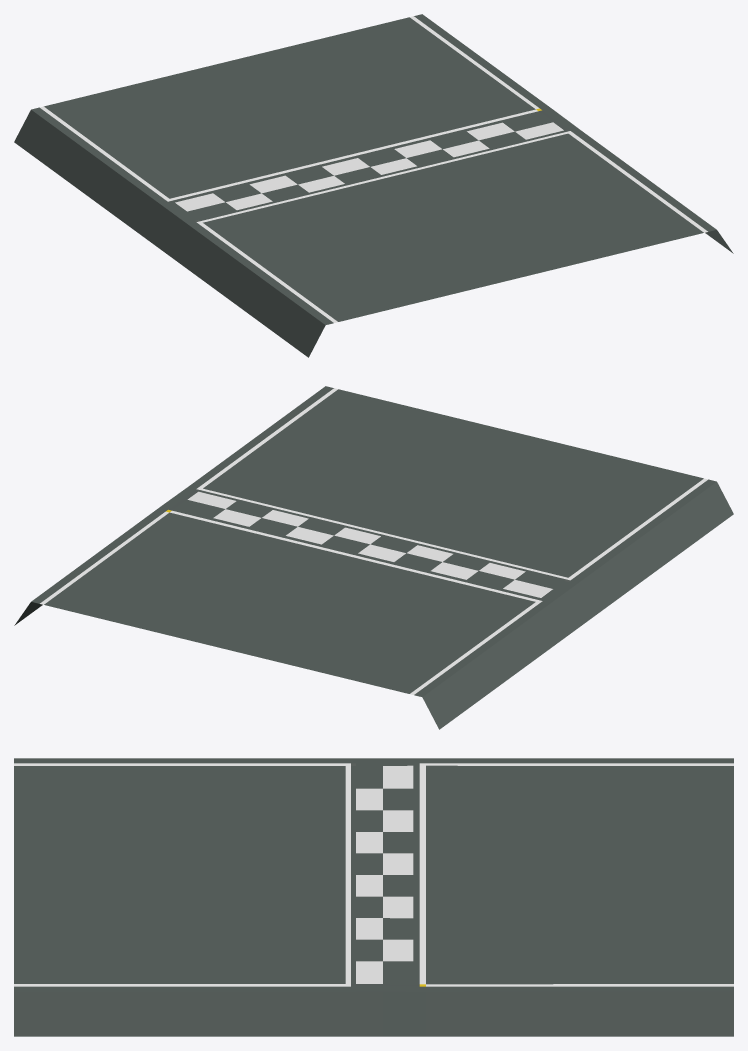
File: Straight_Startline.fbx
The picture shows the model from 3 angles, top to bottom: view 1: azimuth 30°, elevation 25°; view 2: azimuth 150°, elevation 25°; view 3: azimuth 270°, elevation 25°; orthographic projection. The views are drawn at different scales.
Visible parts, largest first — view 1: Plane; view 2: Plane; view 3: Plane.
Part boxes in pixels (<box>): Plane: <box>14,14,733,357</box>; Plane: <box>14,386,733,729</box>; Plane: <box>14,758,733,1036</box>.
Size of the model in its own units: 25 by 1.6 by 30.
